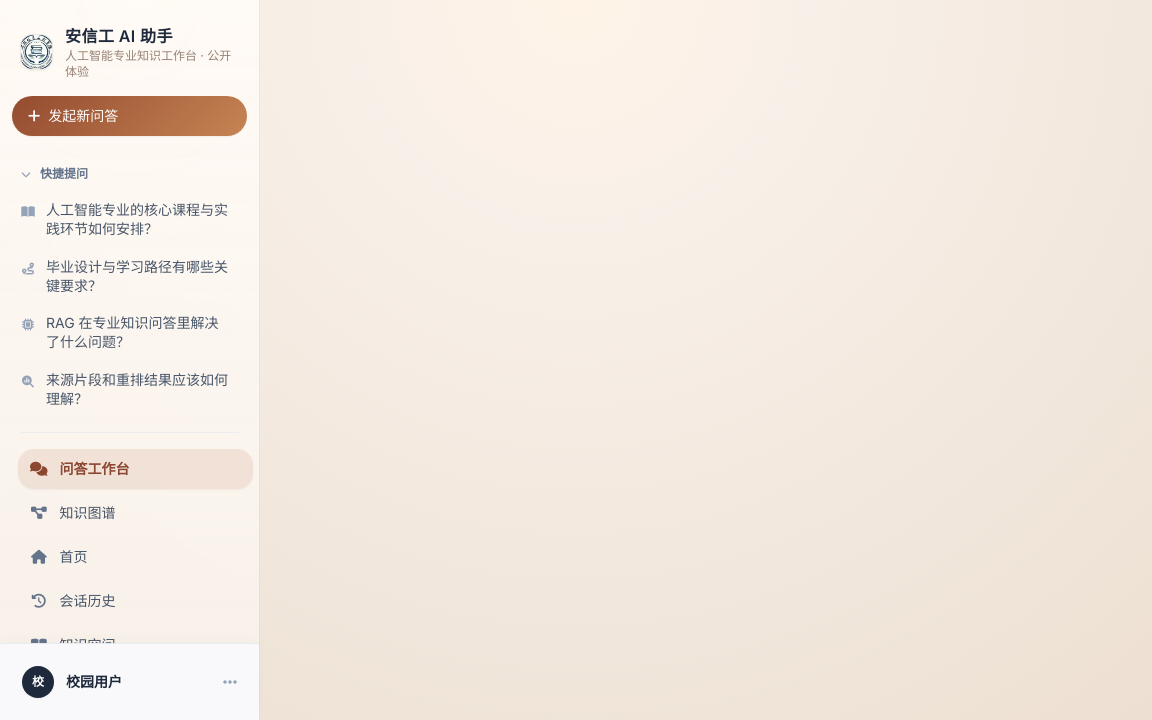
Test: Sidebar › shows logout action for authenticated users
Click the button "校 校园用户".
click(130, 682)  # box [12,656,247,708]
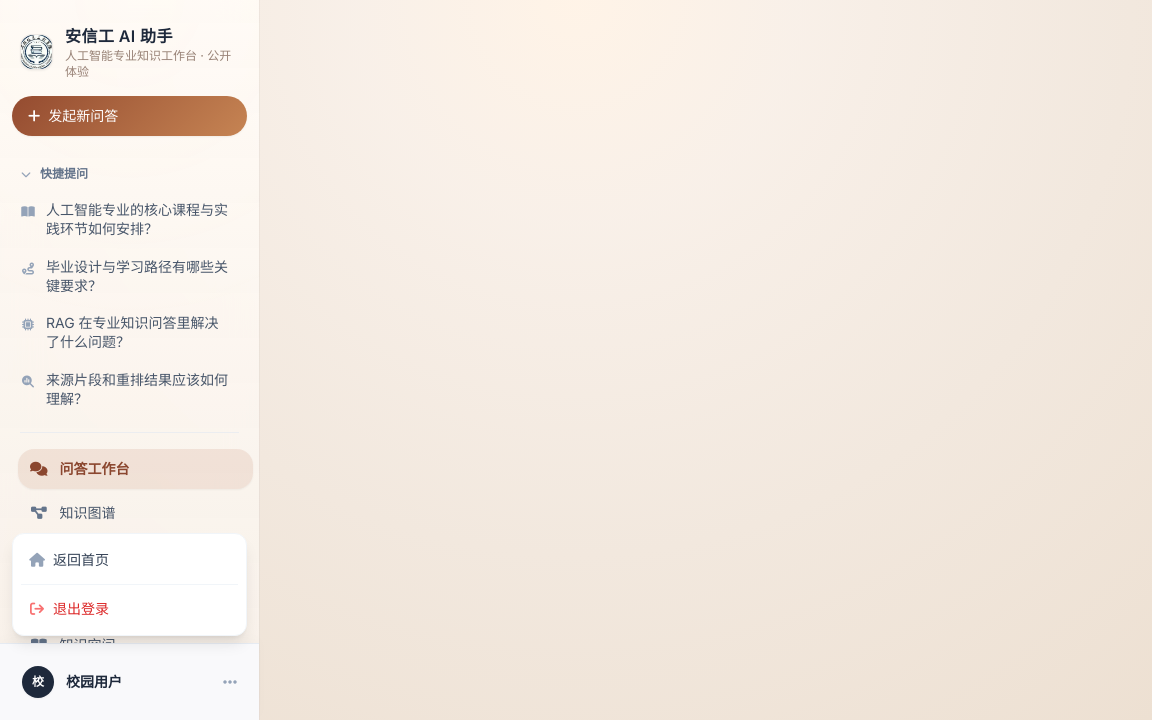
Now the text "退出登录" is shown, box [13,589,246,629]
